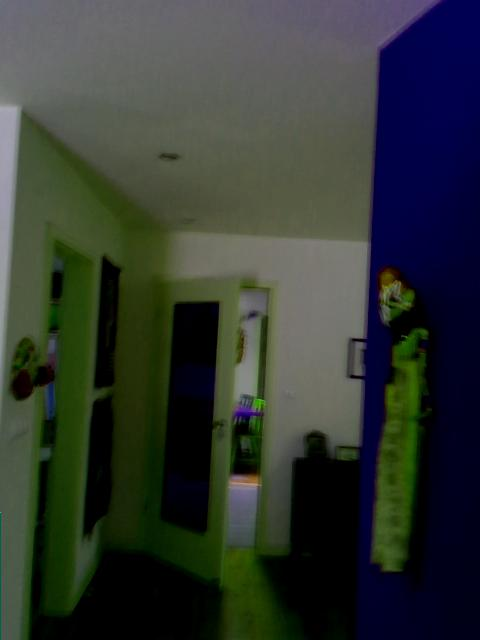semi_door: (137, 271, 280, 592)
